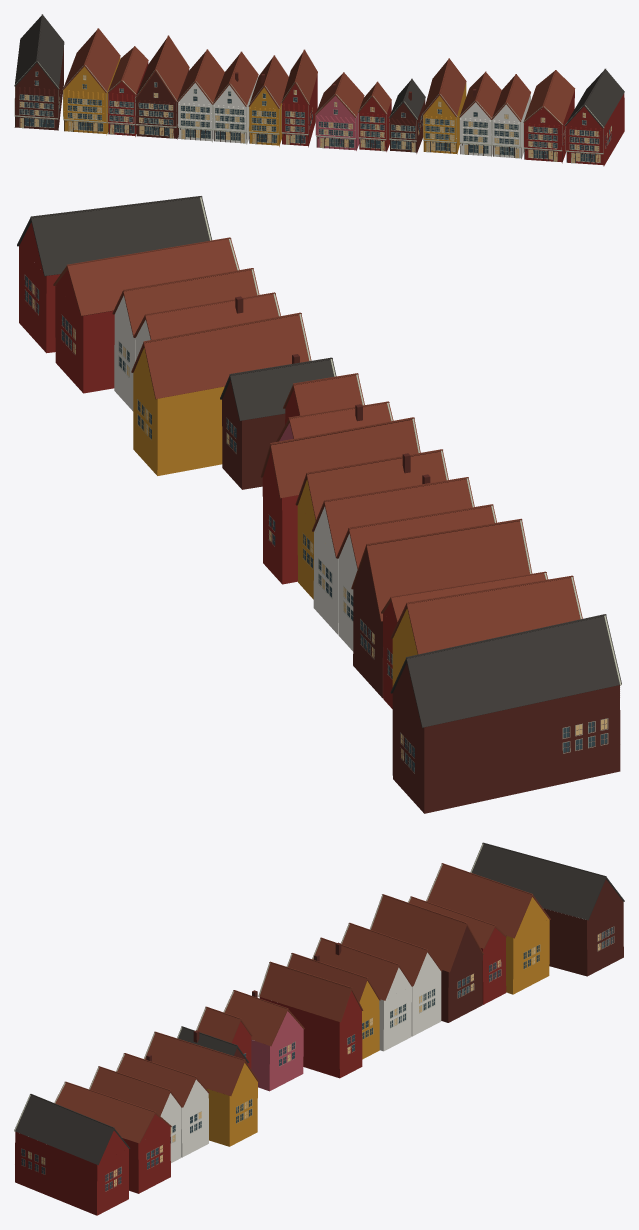
File: bryggen-near.glb
The picture shows the model from 3 angles, top to bottom: view 1: azimuth 30°, elevation 25°; view 2: azimuth 150°, elevation 25°; view 3: azimuth 270°, elevation 25°; orthographic projection. The views are drawn at different scales.
Parts seen in each view (by area): view 1: bryggen-0-roof, bryggen-0-trim, bryggen-0-glass, bryggen-0-red, bryggen-0-brown, bryggen-0-roofDark, bryggen-0-white, bryggen-0-ochre, bryggen-0-glow, bryggen-0-timber, bryggen-0-pink; view 2: bryggen-0-roof, bryggen-0-roofDark, bryggen-0-brown, bryggen-0-red, bryggen-0-ochre, bryggen-0-white, bryggen-0-trim, bryggen-0-glass; view 3: bryggen-0-roof, bryggen-0-red, bryggen-0-roofDark, bryggen-0-brown, bryggen-0-ochre, bryggen-0-white, bryggen-0-pink, bryggen-0-trim, bryggen-0-glass, bryggen-0-glow.
Part boxes in pixels (box(x1,y1,x2,y2)): bryggen-0-roof: box(63, 28, 575, 125); bryggen-0-trim: box(14, 61, 611, 163); bryggen-0-glass: box(19, 72, 611, 161); bryggen-0-red: box(108, 62, 624, 166); bryggen-0-brown: box(14, 48, 476, 153); bryggen-0-roofDark: box(14, 14, 624, 128); bryggen-0-white: box(178, 76, 530, 159); bryggen-0-ochre: box(63, 57, 466, 154); bryggen-0-glow: box(20, 75, 611, 162); bryggen-0-timber: box(15, 116, 596, 164); bryggen-0-pink: box(316, 96, 363, 150); bryggen-0-roof: box(53, 237, 582, 654); bryggen-0-roofDark: box(17, 196, 621, 727); bryggen-0-brown: box(222, 296, 620, 813); bryggen-0-red: box(19, 222, 397, 708); bryggen-0-ochre: box(133, 348, 417, 686); bryggen-0-white: box(114, 295, 357, 651); bryggen-0-trim: box(24, 197, 621, 773); bryggen-0-glass: box(25, 276, 607, 771); bryggen-0-roof: box(55, 863, 550, 1143); bryggen-0-red: box(15, 928, 506, 1215); bryggen-0-roofDark: box(14, 842, 624, 1165); bryggen-0-brown: box(146, 879, 623, 1063); bryggen-0-ochre: box(207, 897, 549, 1146); bryggen-0-white: box(160, 952, 441, 1162); bryggen-0-pink: box(251, 1011, 303, 1091); bryggen-0-trim: box(14, 843, 614, 1191); bryggen-0-glass: box(21, 927, 613, 1190); bryggen-0-glow: box(28, 933, 600, 1186).
Size of the model in its own units: 111 by 16.16 by 97.95.
